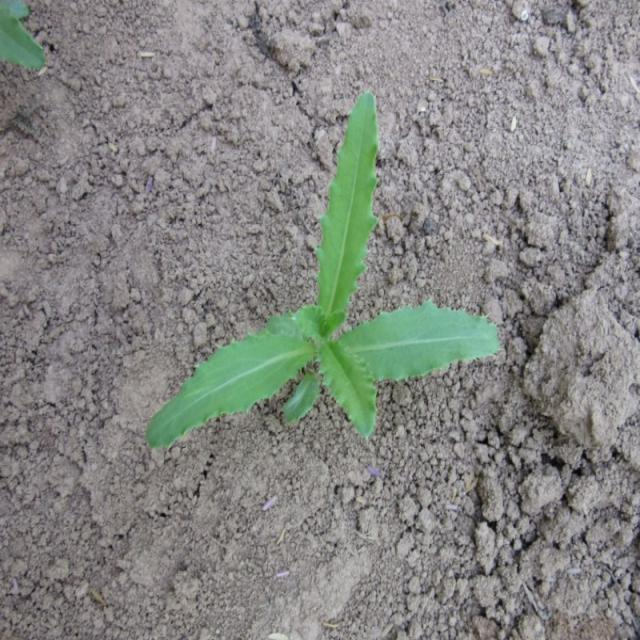field_thistle: (136, 70, 498, 470)
